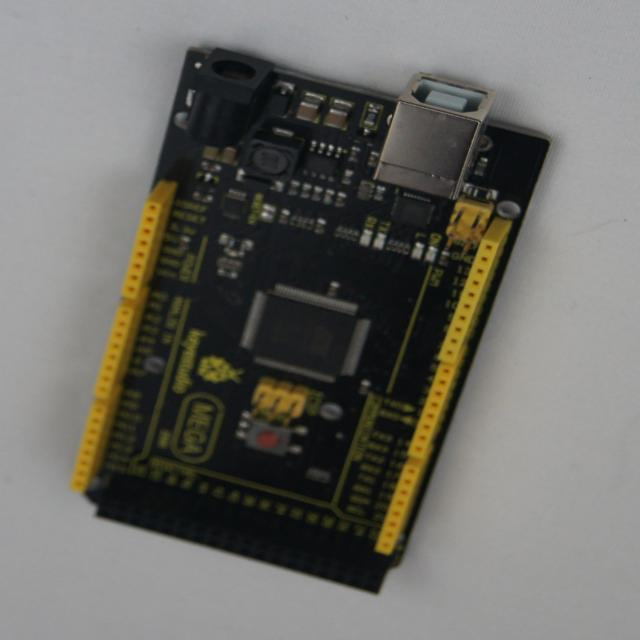Arduino Mega 2560 -Yellow-: (74, 49, 549, 593)
